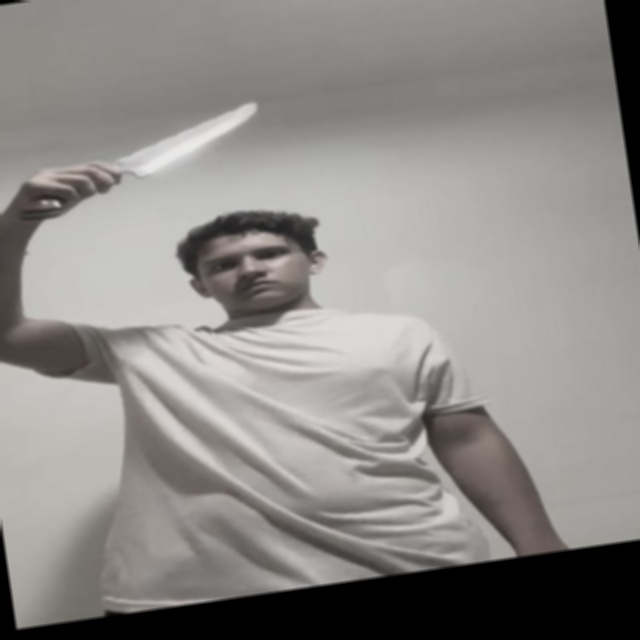Sharp-Object: (116, 100, 260, 180)
